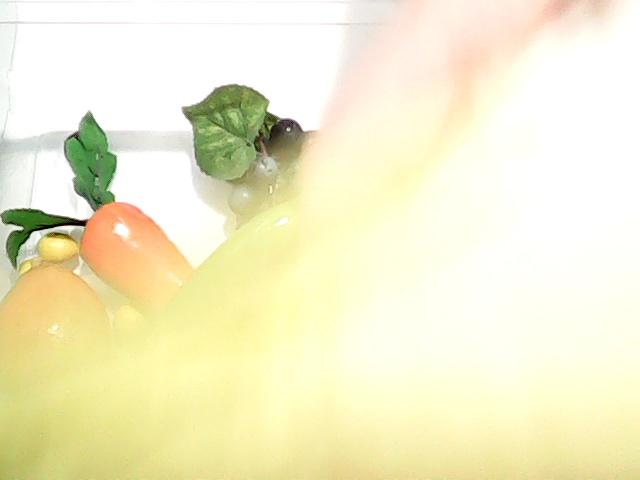carrot: (0, 109, 196, 321)
grape: (180, 82, 324, 237)
lemon: (0, 243, 118, 405)
